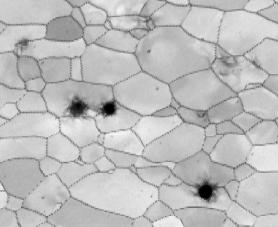good_void: (214, 53, 262, 81), (190, 177, 223, 205), (63, 93, 92, 122), (12, 36, 38, 56), (94, 97, 118, 118), (196, 106, 209, 122), (145, 47, 151, 55), (154, 85, 160, 92), (39, 60, 46, 65), (41, 195, 46, 201), (149, 193, 154, 198)
